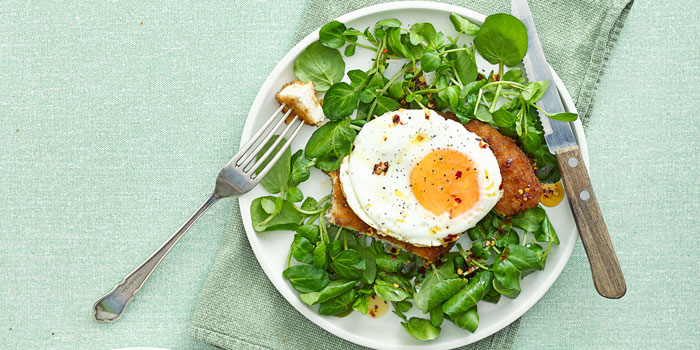fried egg: (350, 106, 493, 234)
